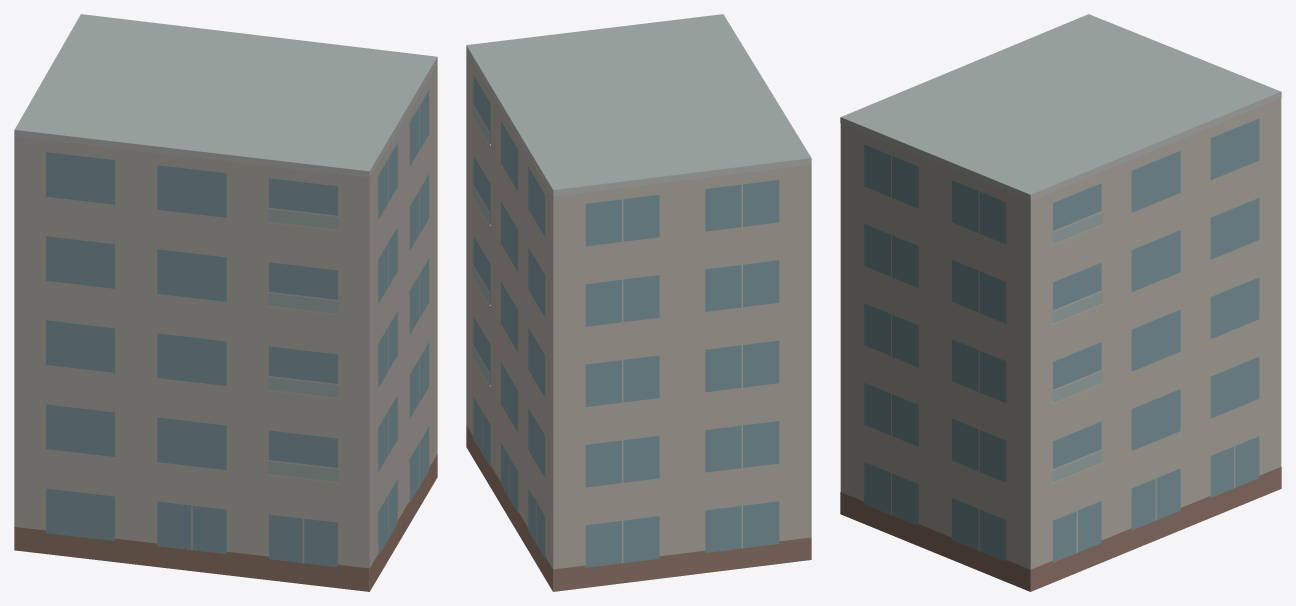
File: survey-upis-32755637.glb
3 renders of one model, left to right at view 1: azimuth 30°, elevation 25°; view 2: azimuth 150°, elevation 25°; view 3: azimuth 270°, elevation 25°, orthographic. The views are drawn at different scales.
Visible parts, largest first — view 1: survey-upis-32755637.tmp; view 2: survey-upis-32755637.tmp; view 3: survey-upis-32755637.tmp.
Part boxes in pixels (x1,y1,x2,y2): survey-upis-32755637.tmp: (14, 14, 437, 591); survey-upis-32755637.tmp: (466, 14, 811, 591); survey-upis-32755637.tmp: (840, 14, 1281, 591).
Bounding box in the file's own units: 14.89 × 15.25 × 15.35.
